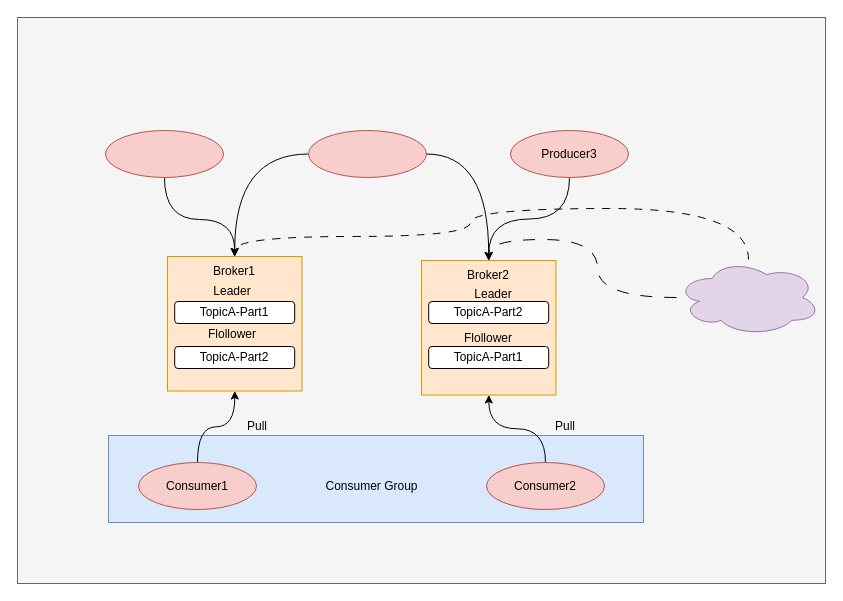
Image size: 843x601. Some labels were removed from this diagram. Each missing label, with the box of its shape:
Producer1: (104, 130, 224, 178)
Producer2: (308, 130, 426, 178)
Zookeeper Cluster: (676, 258, 820, 336)
